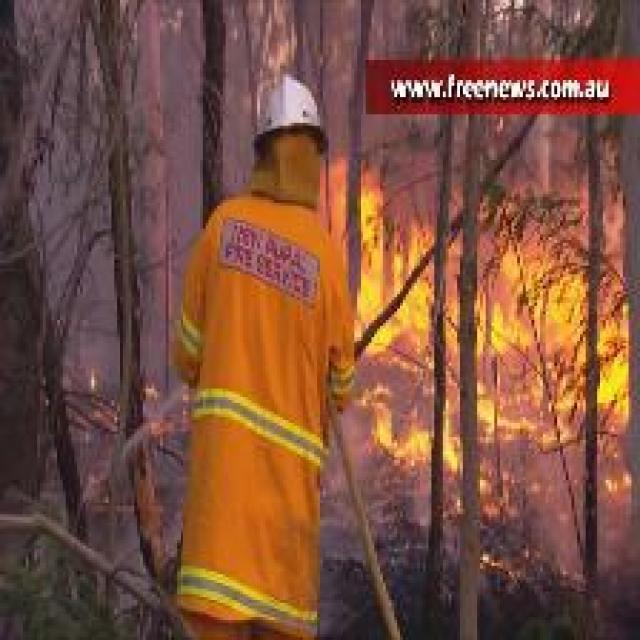Fire: (316, 160, 630, 423), (369, 394, 462, 474)
